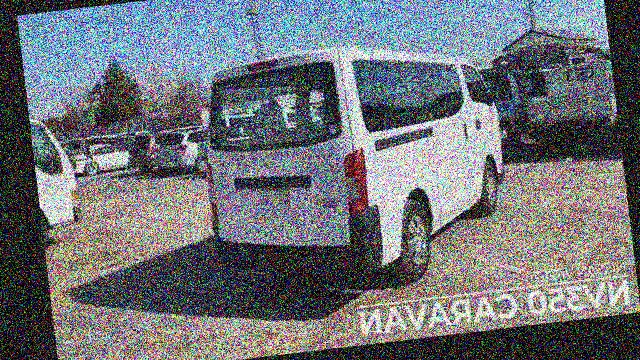van: (192, 30, 518, 289)
